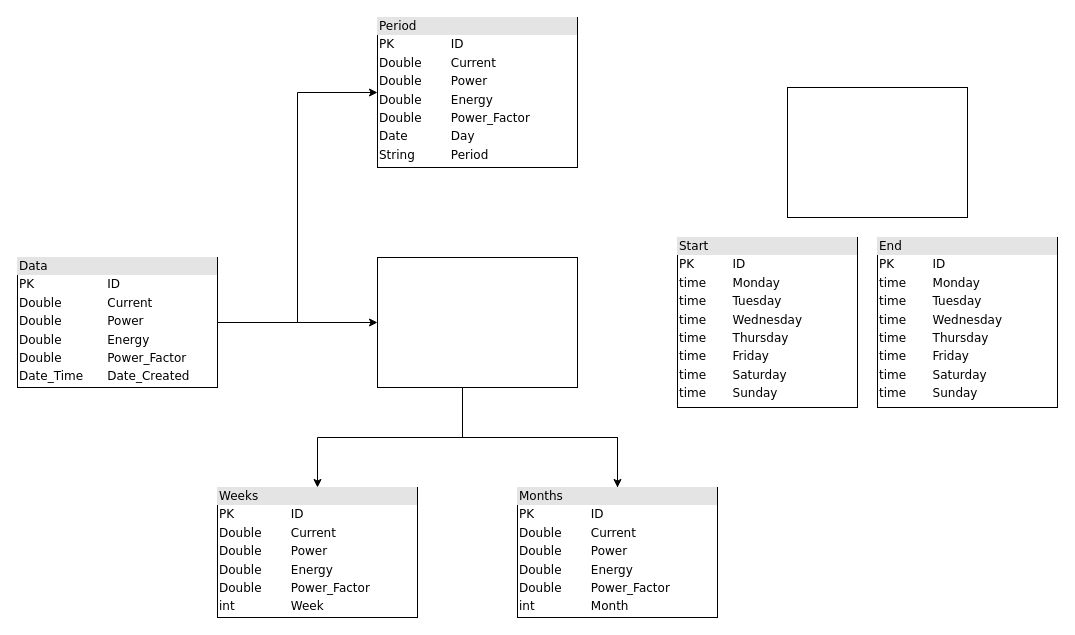
This 1075x635 diagram has some shape labels left out. The box of each missing label's shape, as (x1, y1, x2, y2) in pixels:
Days PK ID Double Current Double Power Double Energy Double Power_Factor int Day: (376, 256, 578, 388)
State PK ID Double Price int State varchar Type Double Energy_Limit int Exceeded: (786, 86, 968, 218)
